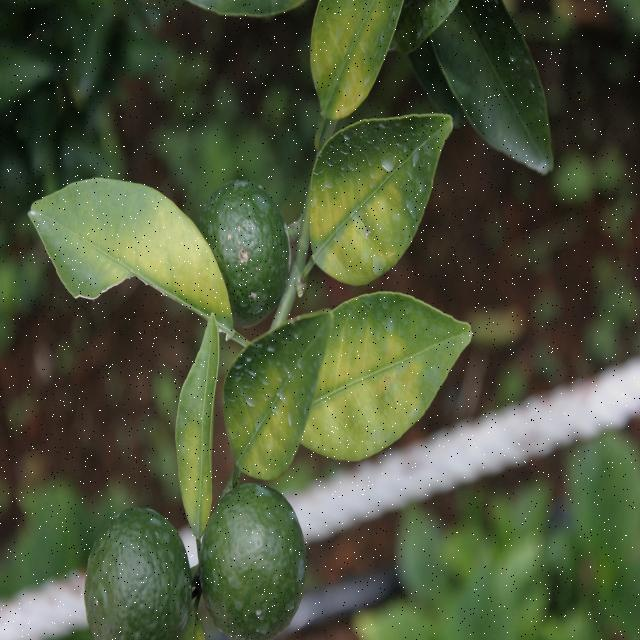greening: (317, 295, 468, 476), (310, 97, 452, 282), (59, 171, 217, 322)
